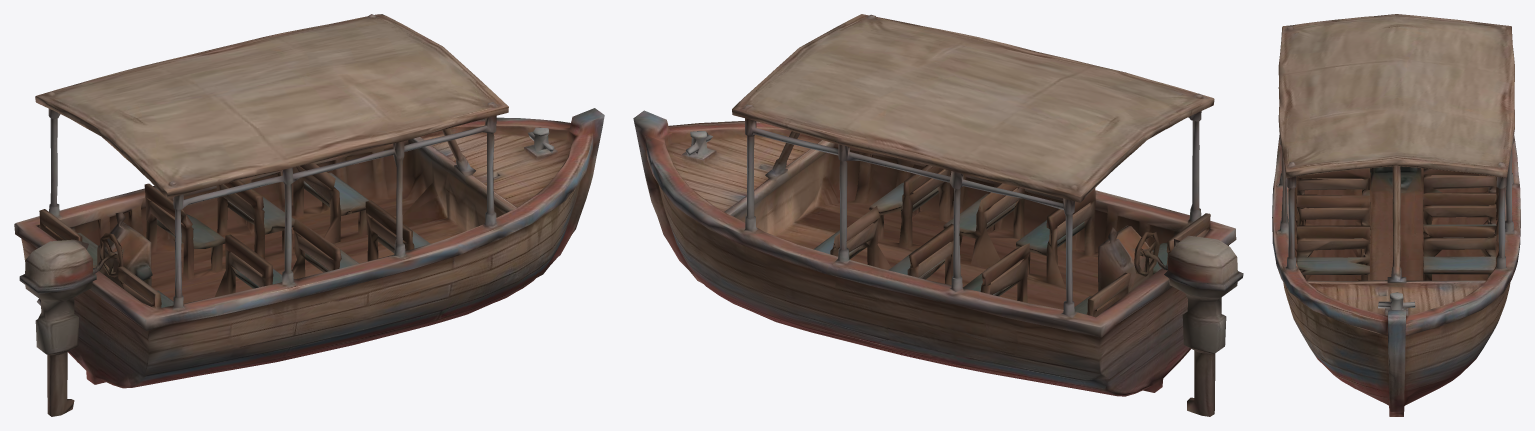
Rendered from boat_launch.glb.
3 views of the same model, side by side, from view 1: azimuth 30°, elevation 25°; view 2: azimuth 150°, elevation 25°; view 3: azimuth 270°, elevation 25° (orthographic). The views are drawn at different scales.
Parts seen in each view (by area): view 1: tripo_node_af441202-8f4c-4308-95c2-887dcb7028fb; view 2: tripo_node_af441202-8f4c-4308-95c2-887dcb7028fb; view 3: tripo_node_af441202-8f4c-4308-95c2-887dcb7028fb.
Part boxes in pixels (bbox=[...]): tripo_node_af441202-8f4c-4308-95c2-887dcb7028fb: bbox=[14, 14, 604, 416]; tripo_node_af441202-8f4c-4308-95c2-887dcb7028fb: bbox=[633, 14, 1243, 416]; tripo_node_af441202-8f4c-4308-95c2-887dcb7028fb: bbox=[1272, 14, 1520, 416].
Bounding box in the file's own units: 1 × 0.4493 × 0.4273.
1 material, 1 textured.
